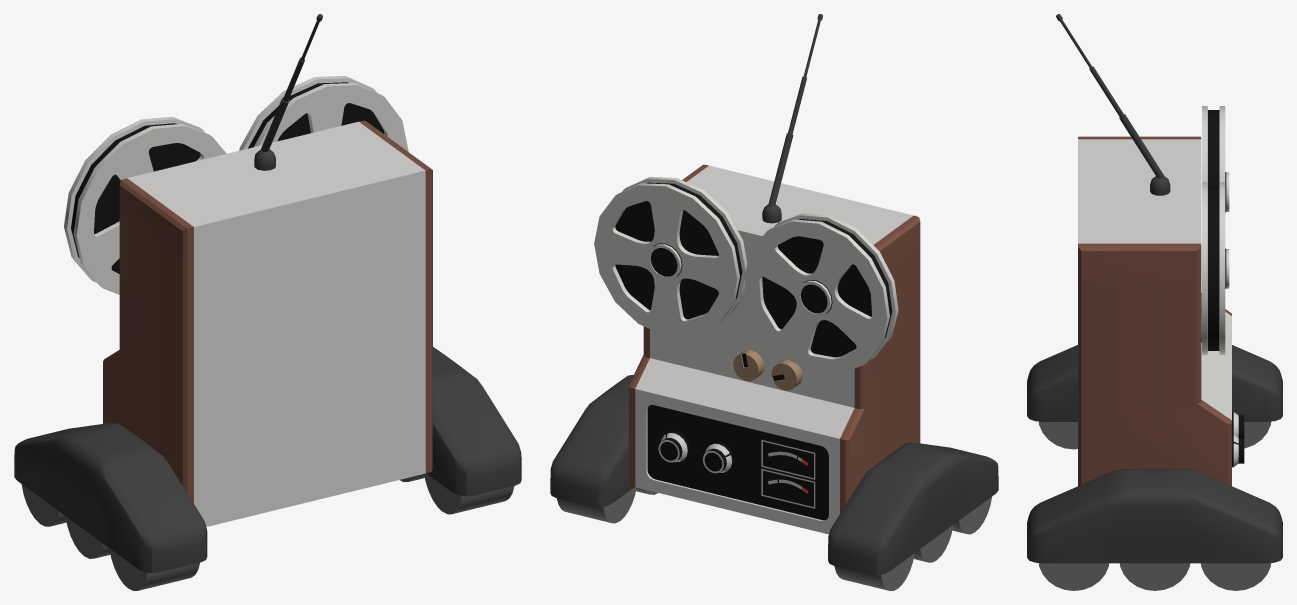
Rendered from méchant.fbx.
3 views of the same model, side by side, from view 1: azimuth 30°, elevation 25°; view 2: azimuth 150°, elevation 25°; view 3: azimuth 270°, elevation 25° (orthographic). The views are drawn at different scales.
Visible parts, largest first — view 1: méchant, Cube.008, Circle, Circle.001, Icosphere; view 2: méchant, Cube.008, Circle, Circle.001, Icosphere, Cylinder.008, Cylinder.010, Circle.002, Circle.003; view 3: méchant, Cube.008, Circle.001, Circle, Icosphere, Cylinder.008.
Boxes of the visible parts, x1=… form: méchant: x1=103, y1=120, x2=432, y2=526; Cube.008: x1=14, y1=347, x2=521, y2=590; Circle: x1=64, y1=116, x2=226, y2=294; Circle.001: x1=239, y1=76, x2=408, y2=151; Icosphere: x1=254, y1=14, x2=322, y2=170; méchant: x1=628, y1=164, x2=920, y2=534; Cube.008: x1=550, y1=375, x2=998, y2=590; Circle: x1=744, y1=213, x2=898, y2=374; Circle.001: x1=594, y1=177, x2=747, y2=336; Icosphere: x1=762, y1=14, x2=822, y2=223; Cylinder.008: x1=658, y1=431, x2=689, y2=462; Cylinder.010: x1=703, y1=442, x2=733, y2=473; Circle.002: x1=733, y1=350, x2=764, y2=381; Circle.003: x1=771, y1=359, x2=802, y2=390; méchant: x1=1078, y1=136, x2=1231, y2=485; Cube.008: x1=1027, y1=345, x2=1282, y2=590; Circle.001: x1=1202, y1=182, x2=1229, y2=354; Circle: x1=1202, y1=106, x2=1229, y2=212; Icosphere: x1=1056, y1=14, x2=1170, y2=195; Cylinder.008: x1=1232, y1=434, x2=1244, y2=467.
Size of the model in its own units: 300 by 403 by 189.
